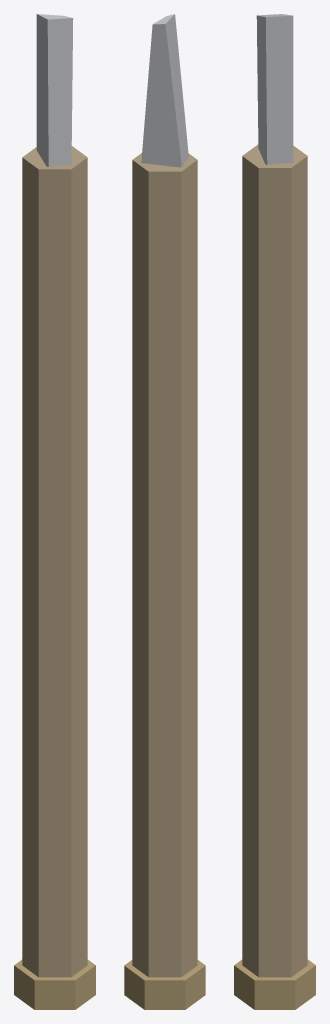
Rendered from glaive.glb.
3 renders of one model, left to right at view 1: azimuth 90°, elevation 25°; view 2: azimuth 150°, elevation 25°; view 3: azimuth 270°, elevation 25°, orthographic.
Parts seen in each view (by area): view 1: glaive; view 2: glaive; view 3: glaive.
Boxes of the visible parts, bbox=[...] form: glaive: bbox=[14, 14, 95, 1009]; glaive: bbox=[124, 14, 205, 1009]; glaive: bbox=[234, 14, 315, 1009].
Size of the model in its own units: 0.0866 by 1.32 by 0.1.
